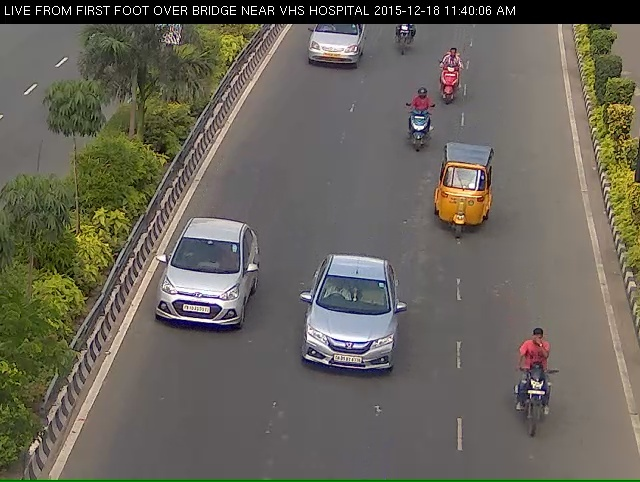Auto: (440, 153, 486, 263)
Car: (296, 274, 398, 412), (145, 242, 240, 366), (300, 20, 363, 84)
Person: (504, 355, 567, 471), (403, 101, 428, 178), (436, 61, 462, 122), (388, 20, 415, 73)
